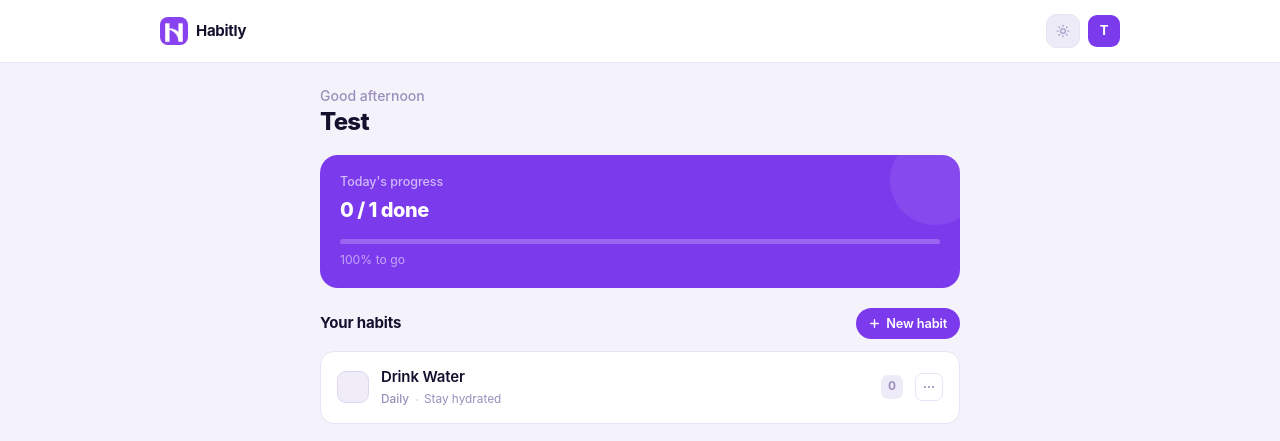
Scenario: habit form › toggles completion and updates the streak display
The image size is (1280, 441).
Expected: the element with test id "habit-card-drink-water" is shown, [320,351,960,424]
Click the button with test id "habit-complete-drink-water": {"x": 353, "y": 387} [337,371,369,403]
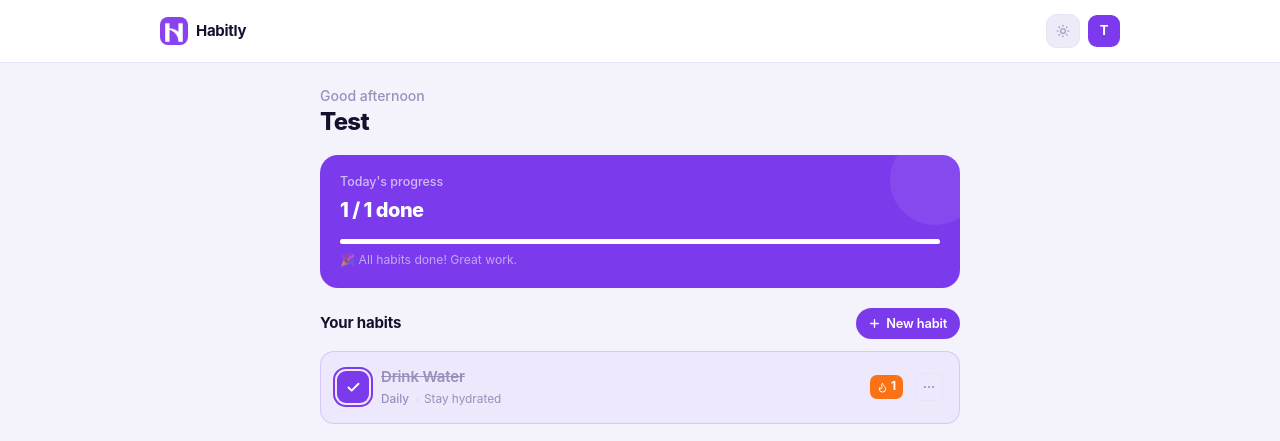
Expected: the element with test id "habit-streak-drink-water" reads "1", [891,379,896,393]
Click the button with test id "habit-complete-drink-water": {"x": 353, "y": 387} [337,371,369,403]
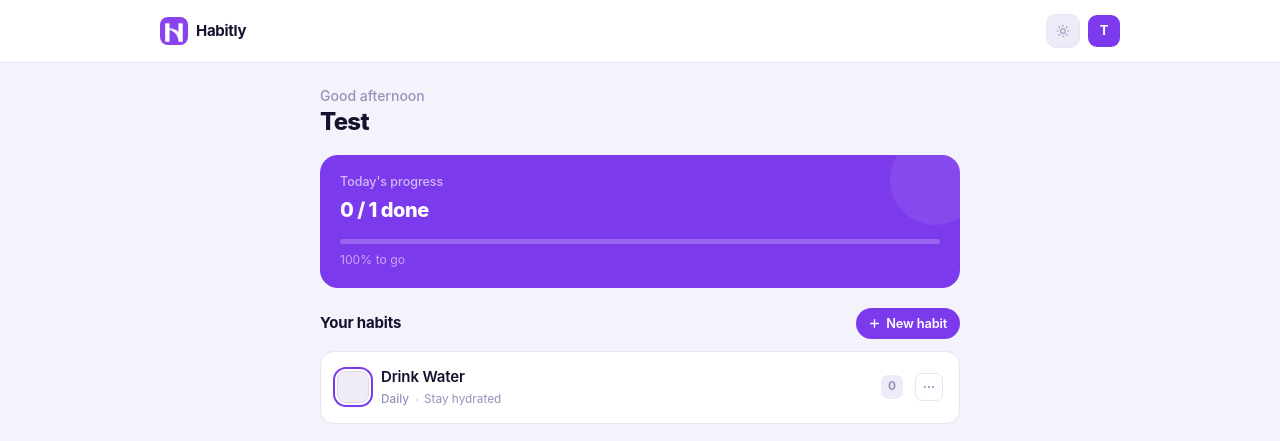
Expected: the text with test id "habit-streak-drink-water" reads "0", [888,379,896,393]
